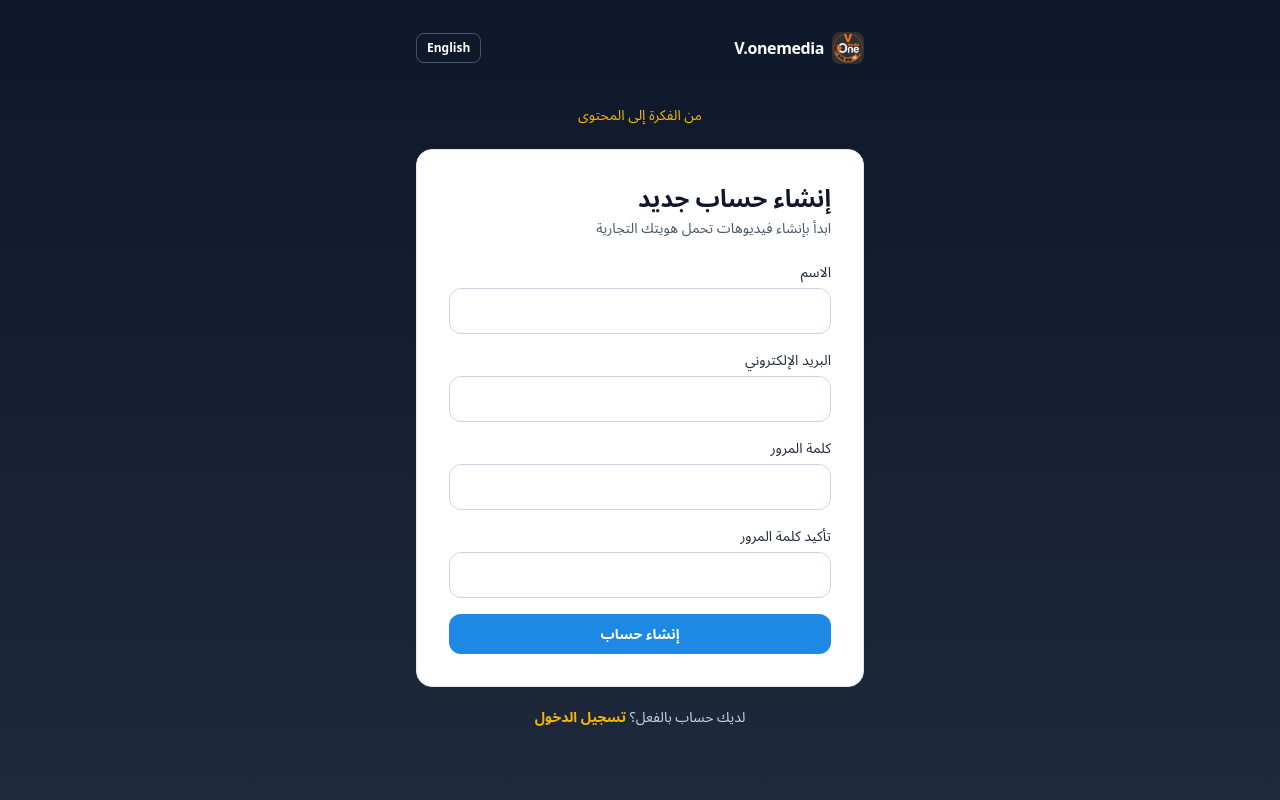
register page › maps the API's field errors onto the fields that caused them
Type "Adel" into the field labelled "الاسم".
click(640, 311); type("Adel")  # box [449, 288, 831, 334]
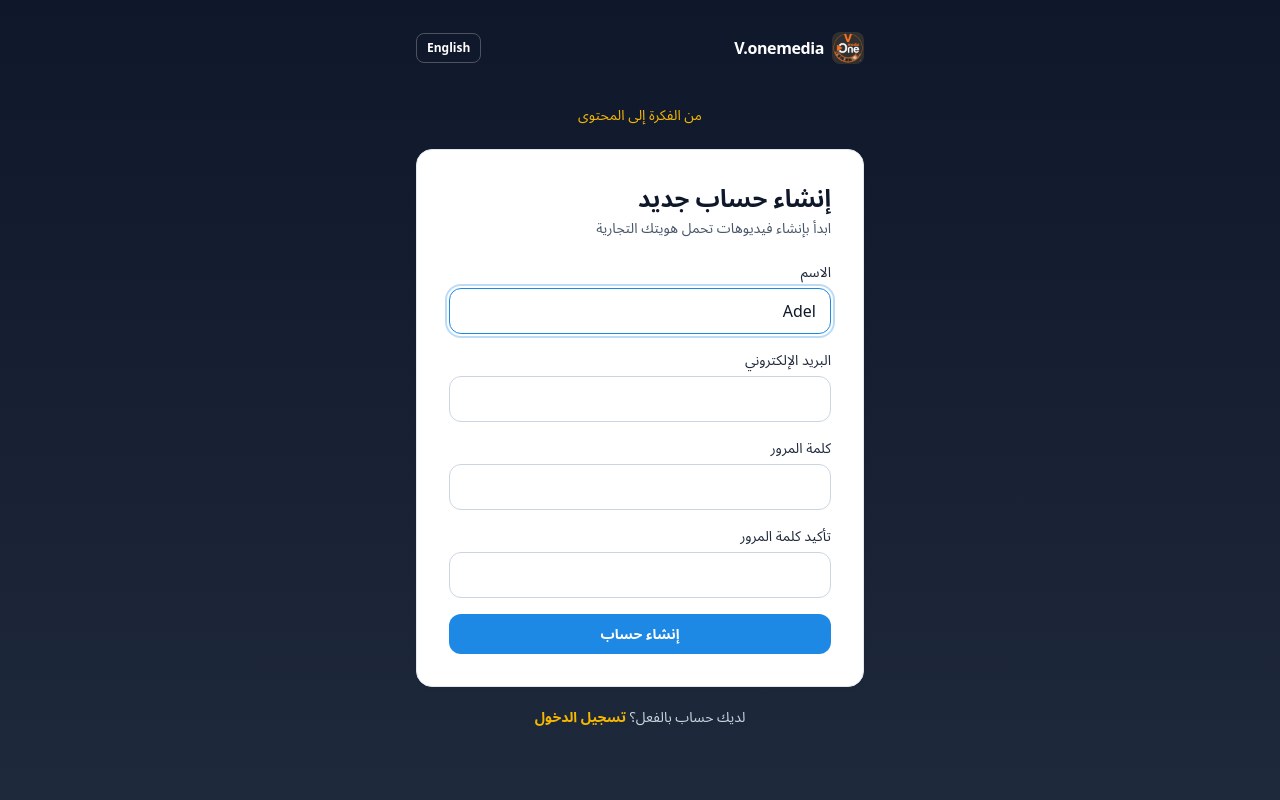
Type "adel@example.com" into the field labelled "البريد الإلكتروني".
click(640, 399); type("adel@example.com")  # box [449, 376, 831, 422]
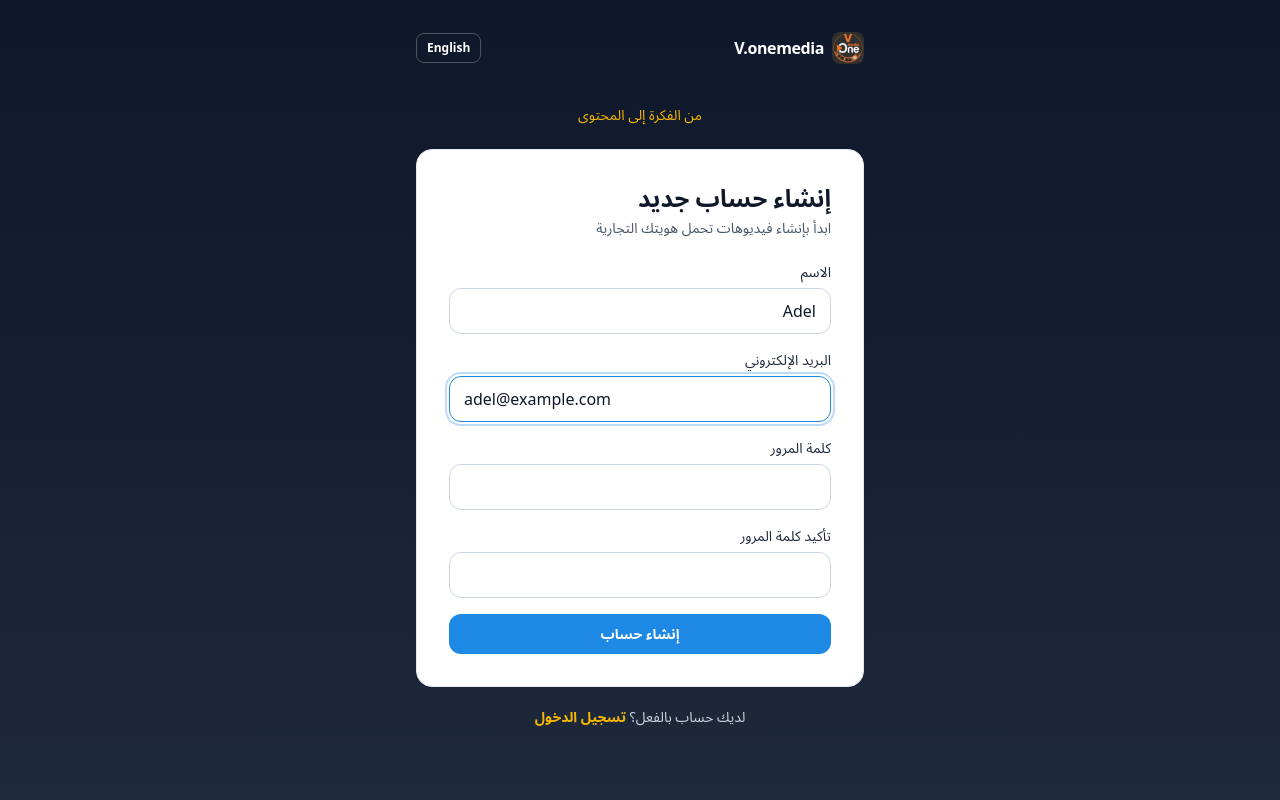
Type "SuperSecret123" into the password field labelled "كلمة المرور".
click(640, 487); type("SuperSecret123")  # box [449, 464, 831, 510]
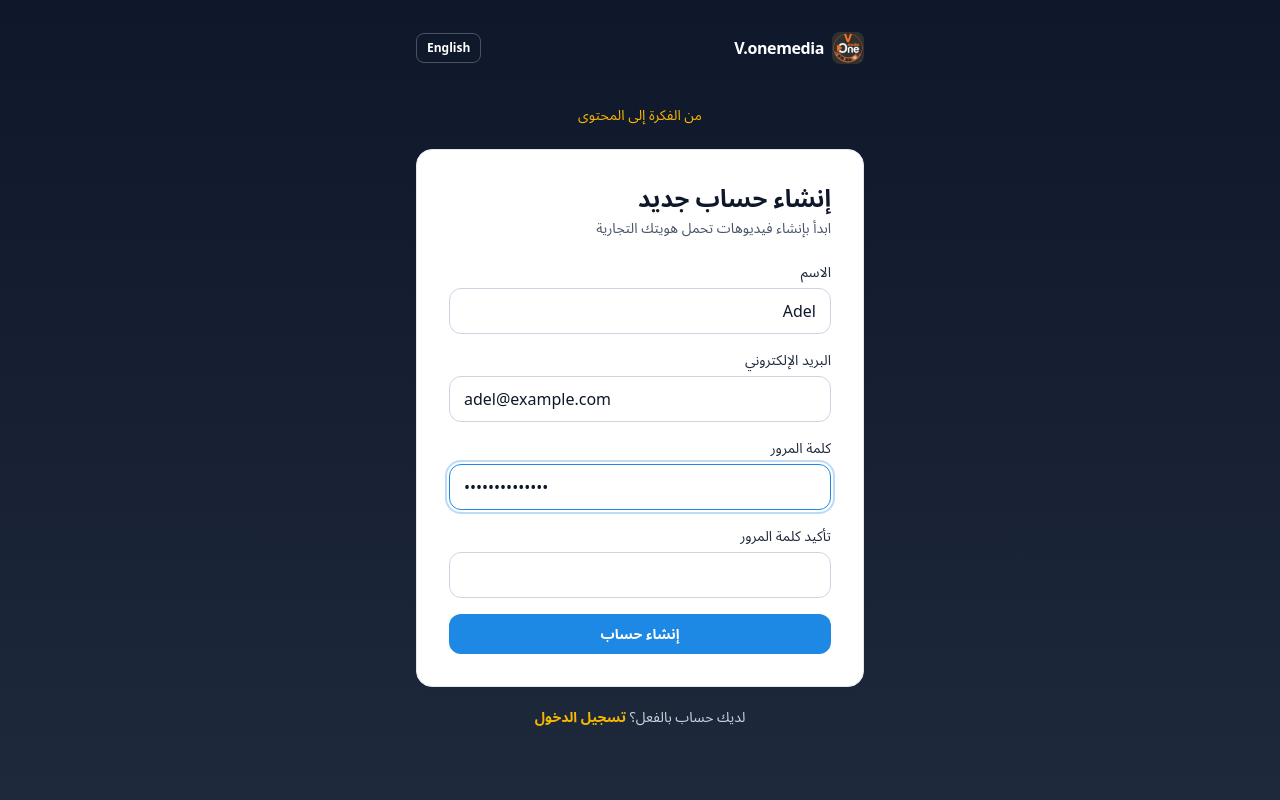
Type "SuperSecret123" into the password field labelled "تأكيد كلمة المرور".
click(640, 575); type("SuperSecret123")  # box [449, 552, 831, 598]
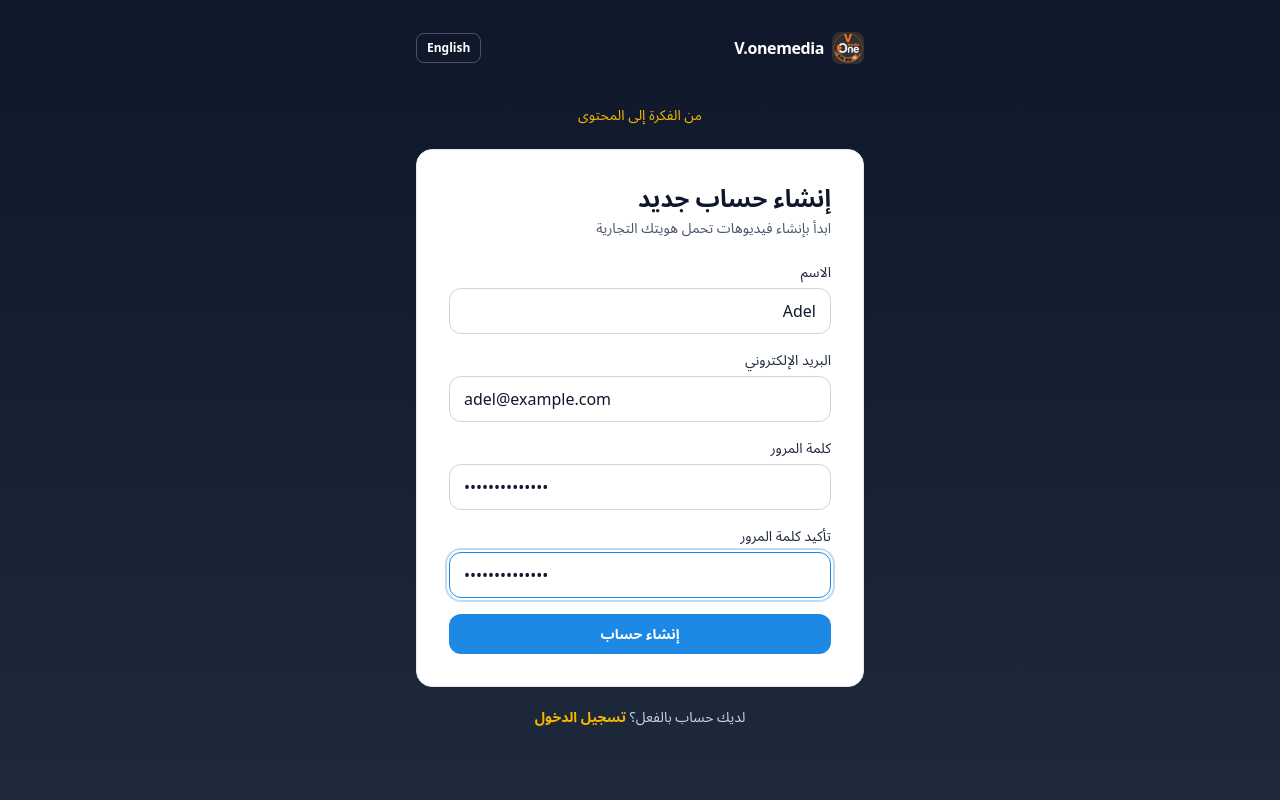
Click the button "إنشاء حساب".
click(640, 634)  # box [449, 614, 831, 654]
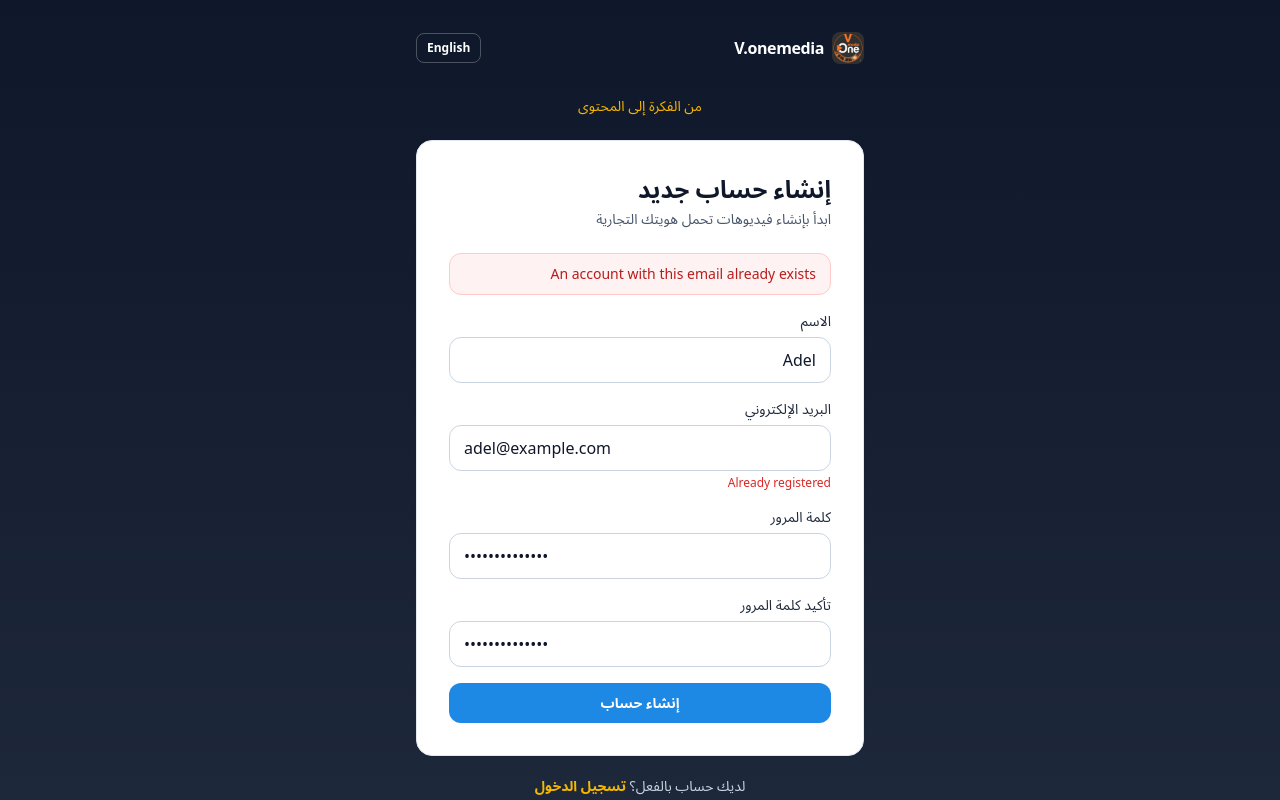
Expected: the message reads "An account with this email already exists", [550, 264, 816, 283]
Expected: the text "Already registered" is shown, [728, 474, 831, 491]
